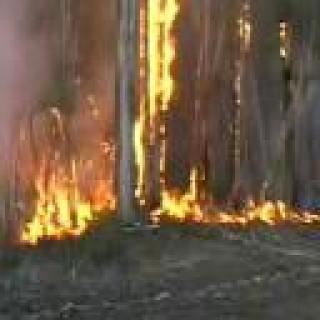fire: (12, 165, 317, 239), (149, 0, 185, 166), (232, 0, 260, 66), (278, 22, 295, 73)
